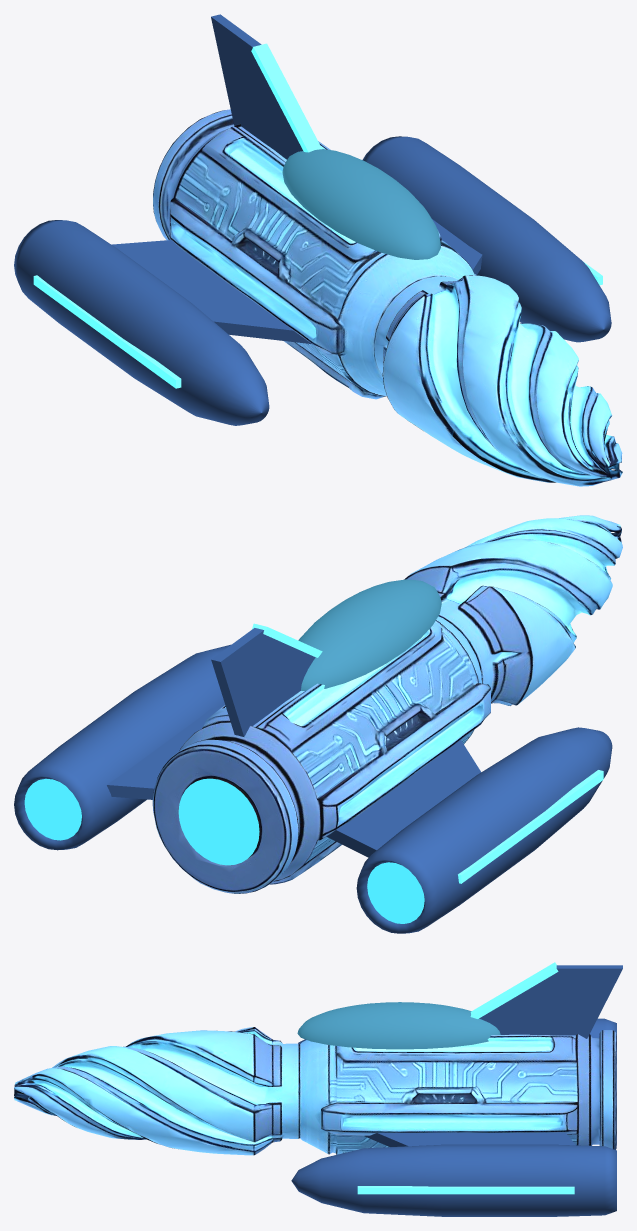
The picture shows the model from 3 angles, top to bottom: view 1: azimuth 30°, elevation 25°; view 2: azimuth 150°, elevation 25°; view 3: azimuth 270°, elevation 25°; orthographic projection. The views are drawn at different scales.
Visible parts, largest first — view 1: Storm Round; view 2: Storm Round; view 3: Storm Round.
Part boxes in pixels (<box>): Storm Round: <box>14,14,622,486</box>; Storm Round: <box>14,515,622,933</box>; Storm Round: <box>14,962,622,1216</box>.
Size of the model in its own units: 0.624 by 0.3469 by 1.01.
Materials: 5 (1 with a texture image).
